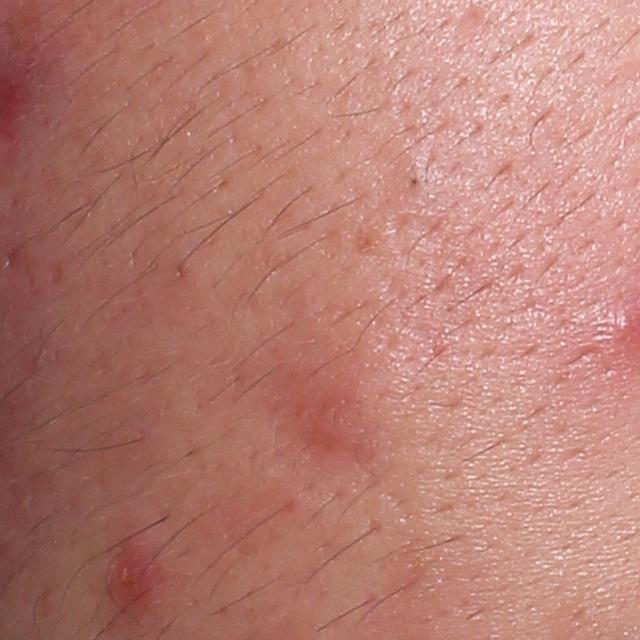comedo: (406, 172, 424, 195)
papule: (104, 530, 180, 617)
